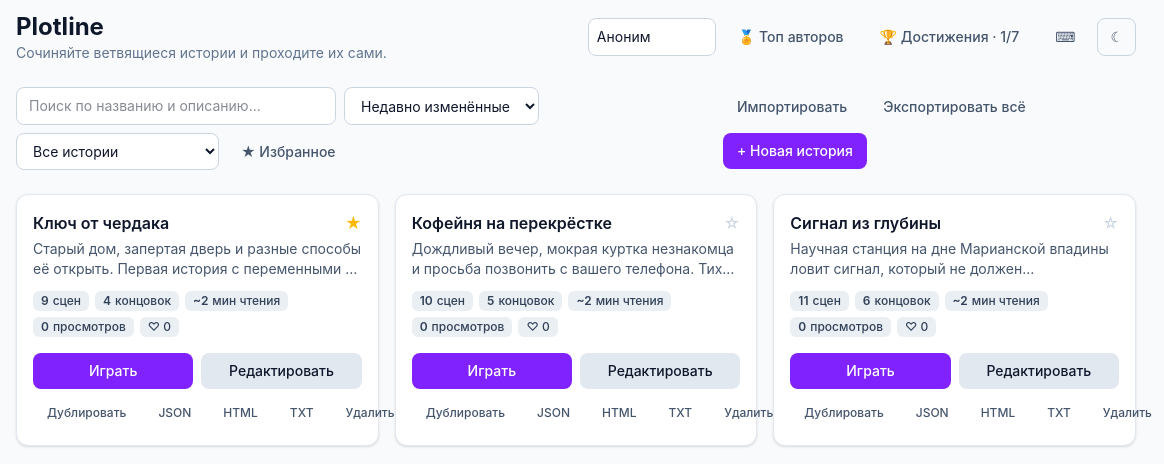
Test: LibraryScreen › "★ Избранное" toggle shows only favorited stories
Click the button "★ Избранное" at (288, 152), box [227, 133, 350, 170]
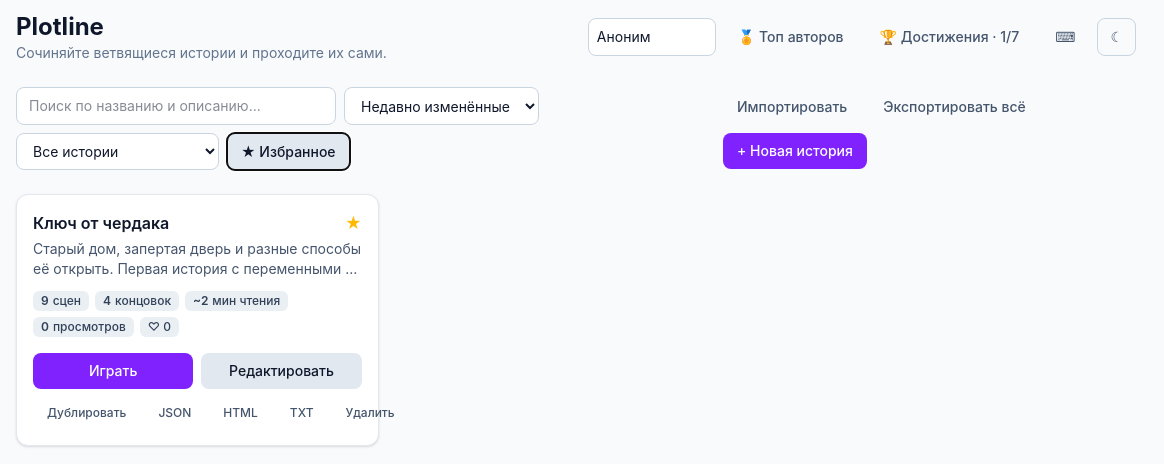
Expected: the heading "Ключ от чердака" is shown, [33, 211, 169, 235]
Result: the heading "Кофейня на перекрёстке" is gone
Result: the heading "Сигнал из глубины" is gone
